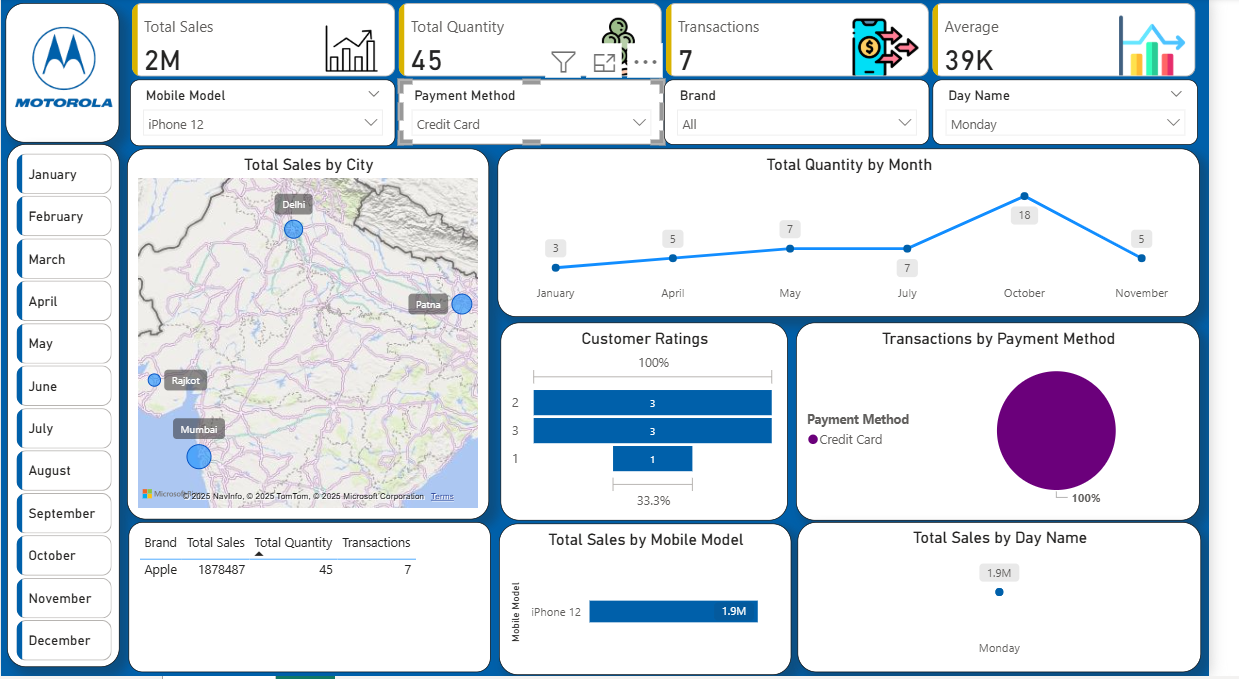

Layout of this report page (visuals, bound fields, positions):
{"tool":"powerbi","page":{"name":"Page 1","canvas":[1280,720],"ordinal":0},"visuals":[{"type":"shape","box":[5.5,6.9,120.8,148.2],"z":0},{"type":"image","box":[9.6,16.5,113.9,116.6],"z":1000},{"type":"shape","box":[6.9,156.4,119.4,554.4],"z":2000},{"type":"advancedSlicerVisual","fields":{"Values":["Sales_Data.Date.Variation.Date Hierarchy.Month"]},"box":[11,160.5,111.1,548.9],"z":3000},{"type":"cardVisual","fields":{"Data":["Sales_Data.Total Sales","Sales_Data.Total Quantity","Sales_Data.Transactions","Sales_Data.Average"]},"box":[134,5.6,1140.1,83.7],"z":4000},{"type":"map","fields":{"Category":["Sales_Data.City"],"Size":["Sales_Data.Total Sales"]},"box":[132.9,160.8,384.1,393.1],"z":5000},{"type":"lineChart","fields":{"Y":["Sales_Data.Total Quantity"],"Category":["Sales_Data.Date.Variation.Date Hierarchy.Month","Sales_Data.Date.Variation.Date Hierarchy.Day"]},"box":[525.9,160.8,744.8,178.7],"z":6000},{"type":"clusteredBarChart","fields":{"Category":["Sales_Data.Mobile Model"],"Y":["Sales_Data.Total Sales"]},"box":[528.3,558.5,310.1,160.5],"z":7000},{"type":"pieChart","fields":{"Category":["Sales_Data.Payment Method"],"Y":["Sales_Data.Transactions"]},"box":[842.5,344.4,428.1,209.9],"z":8000},{"type":"funnel","title":"Customer Ratings","fields":{"Category":["Sales_Data.Customer Ratings"],"Y":["Sum(Sales_Data.Customer Ratings)"]},"box":[529.7,344.4,304.6,209.9],"z":9000},{"type":"areaChart","fields":{"Category":["Sales_Data.Day Name"],"Y":["Sales_Data.Total Sales"]},"box":[845.3,557.1,428.1,159.2],"z":10000},{"type":"tableEx","fields":{"Values":["Sales_Data.Brand","Sales_Data.Total Sales","Sales_Data.Total Quantity","Sales_Data.Transactions"]},"box":[135.8,557.1,384.2,159.2],"z":11000},{"type":"slicer","fields":{"Values":["Sales_Data.Mobile Model"]},"box":[136.2,87.1,281.4,70.3],"z":12000},{"type":"slicer","fields":{"Values":["Sales_Data.Payment Method"]},"box":[421,87.1,281.4,69.2],"z":13000},{"type":"slicer","fields":{"Values":["Sales_Data.Brand"]},"box":[703.5,87.1,281.4,69.2],"z":14000},{"type":"slicer","fields":{"Values":["Sales_Data.Day Name"]},"box":[988.2,87.1,281.4,69.2],"z":15000}]}

Visuals, with their boxes in screenshot pixels (x1, y1, x2, y2), scaled from the page's 1280x720 canvas onto the 1239x679 screenshot:
shape: bbox=[5, 7, 122, 146]
image: bbox=[9, 16, 120, 126]
shape: bbox=[7, 147, 122, 670]
advancedSlicerVisual - Sales_Data.Date.Variation.Date Hierarchy.Month: bbox=[11, 151, 118, 669]
cardVisual - Sales_Data.Total Sales x Sales_Data.Total Quantity: bbox=[130, 5, 1233, 84]
map - Sales_Data.City x Sales_Data.Total Sales: bbox=[129, 152, 500, 522]
lineChart - Sales_Data.Total Quantity x Sales_Data.Date.Variation.Date Hierarchy.Month: bbox=[509, 152, 1230, 320]
clusteredBarChart - Sales_Data.Mobile Model x Sales_Data.Total Sales: bbox=[511, 527, 812, 678]
pieChart - Sales_Data.Payment Method x Sales_Data.Transactions: bbox=[816, 325, 1230, 523]
"Customer Ratings" funnel: bbox=[513, 325, 808, 523]
areaChart - Sales_Data.Day Name x Sales_Data.Total Sales: bbox=[818, 525, 1233, 676]
tableEx - Sales_Data.Brand x Sales_Data.Total Sales: bbox=[131, 525, 503, 676]
slicer - Sales_Data.Mobile Model: bbox=[132, 82, 404, 148]
slicer - Sales_Data.Payment Method: bbox=[408, 82, 680, 147]
slicer - Sales_Data.Brand: bbox=[681, 82, 953, 147]
slicer - Sales_Data.Day Name: bbox=[957, 82, 1229, 147]
